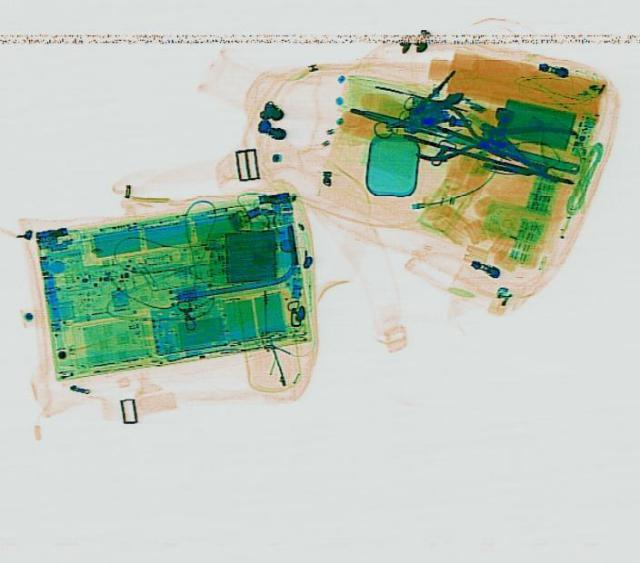Pliers: (467, 104, 593, 185), (404, 97, 516, 177)
